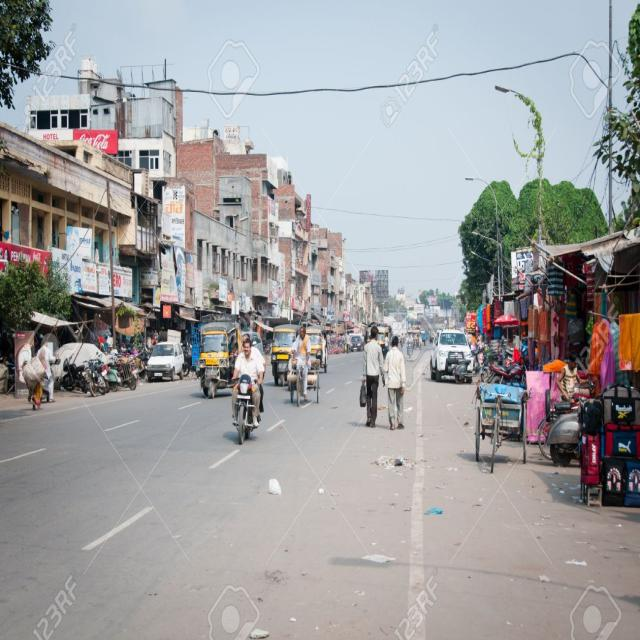person ahead at: (357, 314, 389, 430), (387, 332, 413, 436)
